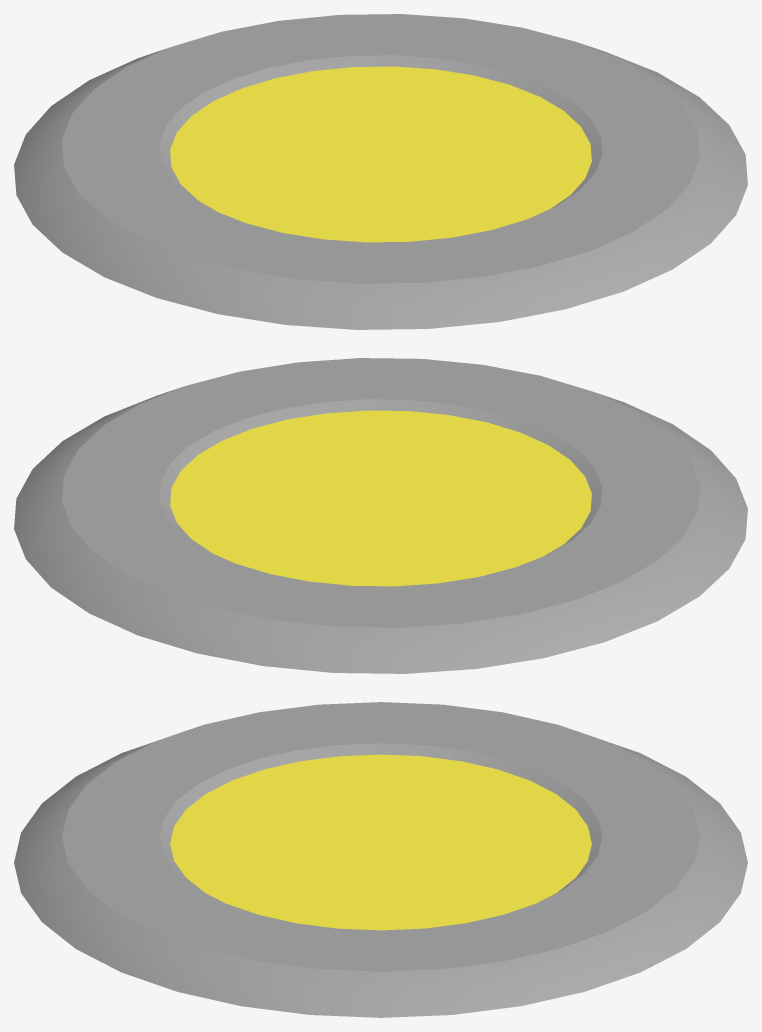
Rendered from Floor Light.fbx.
3 views of the same model, one above another, from view 1: azimuth 30°, elevation 25°; view 2: azimuth 150°, elevation 25°; view 3: azimuth 270°, elevation 25° (orthographic).
Parts seen in each view (by area): view 1: Cylinder; view 2: Cylinder; view 3: Cylinder.
Boxes of the visible parts, x1,y1,x2,y2 form: Cylinder: (14,14,747,329); Cylinder: (14,358,747,673); Cylinder: (14,702,747,1017).
Bounding box in the file's own units: 30 × 1.17 × 30.
